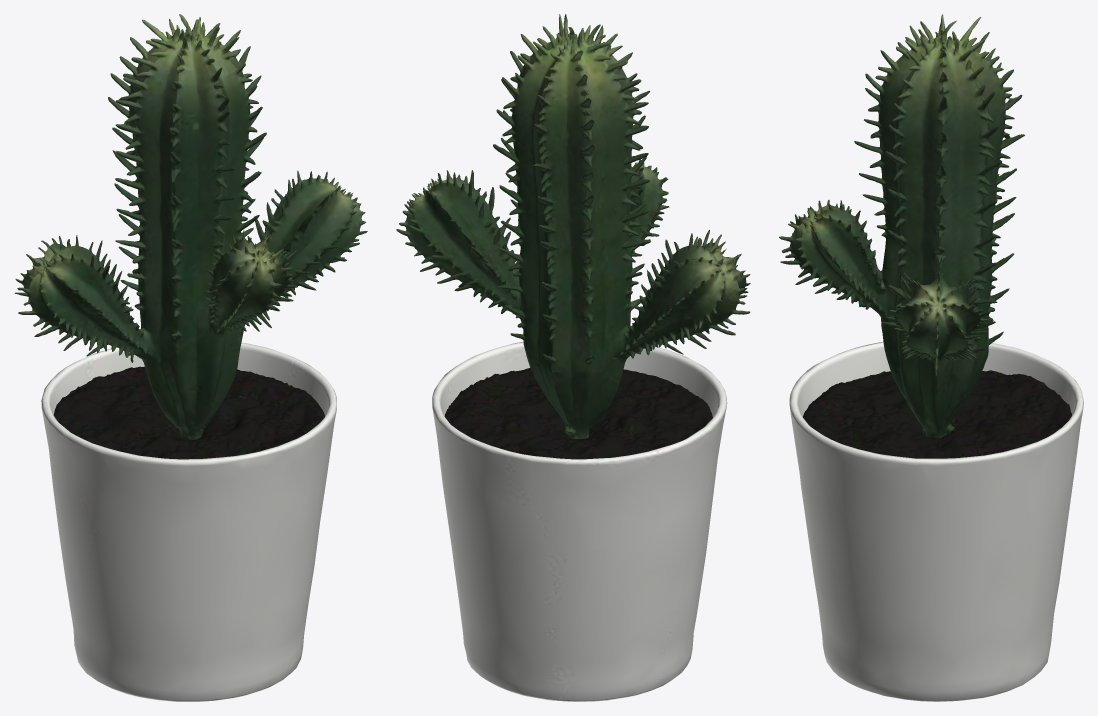
The picture shows the model from 3 angles, left to right: view 1: azimuth 30°, elevation 25°; view 2: azimuth 150°, elevation 25°; view 3: azimuth 270°, elevation 25°; orthographic projection.
Parts seen in each view (by area): view 1: 60587154-FEJKA001; view 2: 60587154-FEJKA001; view 3: 60587154-FEJKA001.
Part boxes in pixels (box(x1,y1,x2,y2)): 60587154-FEJKA001: box(14, 14, 367, 701); 60587154-FEJKA001: box(396, 14, 750, 701); 60587154-FEJKA001: box(779, 14, 1083, 701).
Bounding box in the file's own units: 0.0749 × 0.1318 × 0.0573.
Materials: 1 (1 with a texture image).
